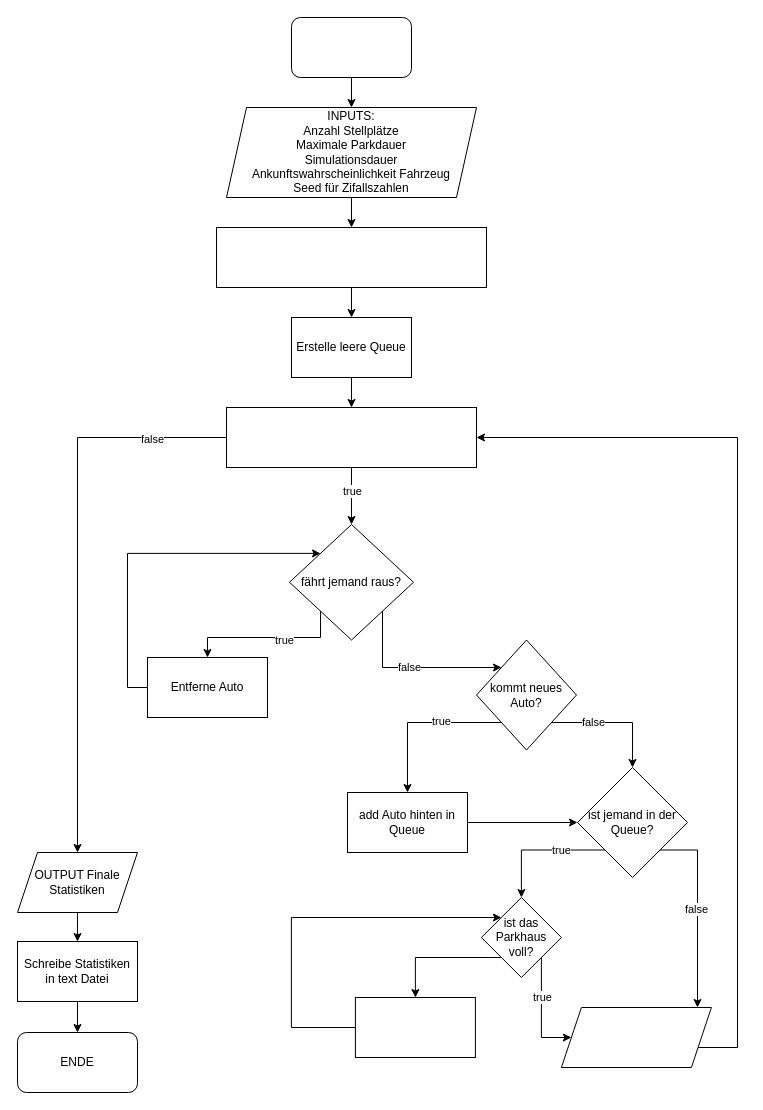
Some shapes in this 763 by 1110 pixel diagram are drawn without their labels. Here are the shapes that lost their labels. From the top down, the centre of each, then its label:
At [351,47]: "START".
At [351,257]: "Erstelle Array Parkhaus [Anzahl Stellplätze]".
At [351,437]: "WHILE Simulationsdauer < Simulationszeit".
At [414,1027]: "erstes Queue Auto einparken".
At [635,1037]: "OUTPUT Statistiken".
